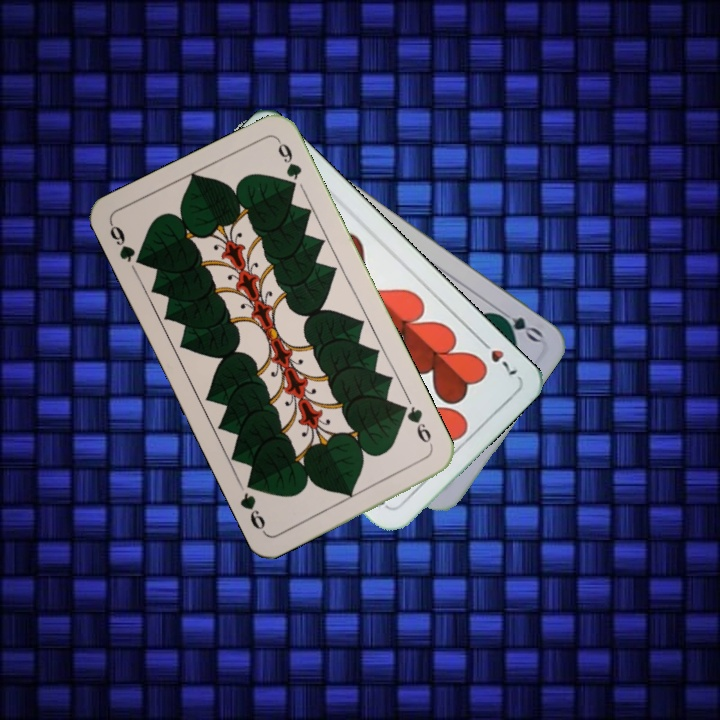G9: (105, 220, 149, 269), (396, 401, 436, 452)
GO: (489, 303, 545, 345)
H7: (475, 334, 520, 378)
